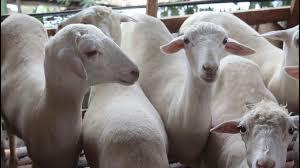Sheep: (36, 18, 147, 102), (151, 12, 261, 85), (205, 100, 300, 168)
